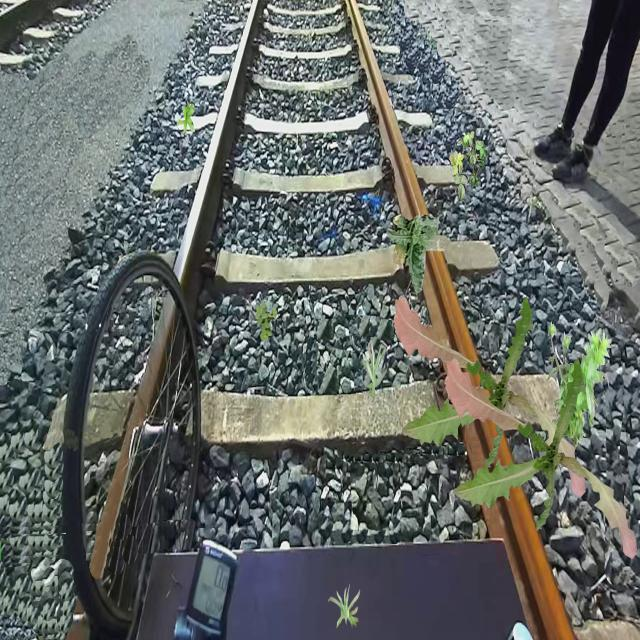Plant: (393, 295, 586, 498), (445, 357, 638, 560), (547, 321, 612, 464), (386, 214, 449, 297), (449, 127, 486, 200), (361, 341, 388, 398), (328, 583, 360, 629), (254, 301, 278, 342), (177, 102, 194, 134)
